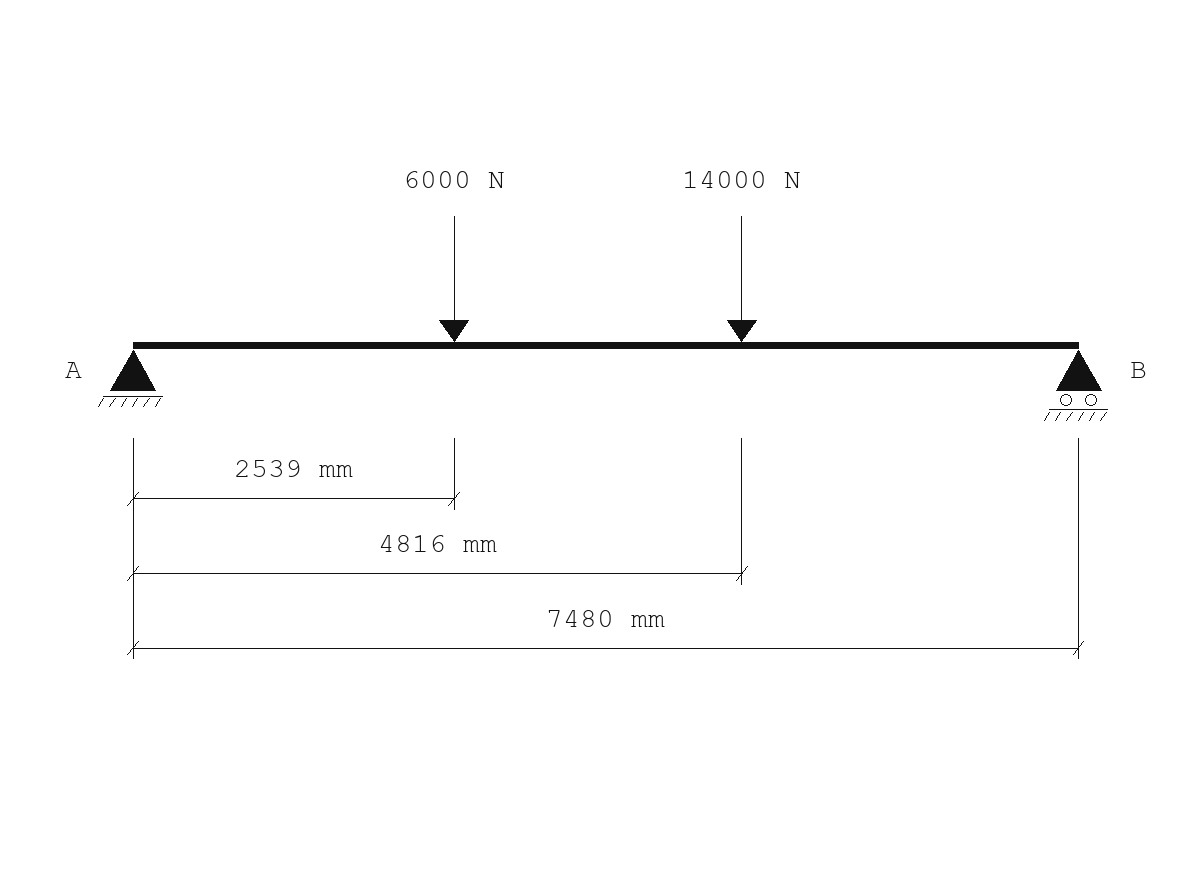pin_support: (98, 350, 163, 407)
point_load: (439, 216, 469, 342), (727, 216, 757, 342)
roller_support: (1044, 350, 1108, 421)
